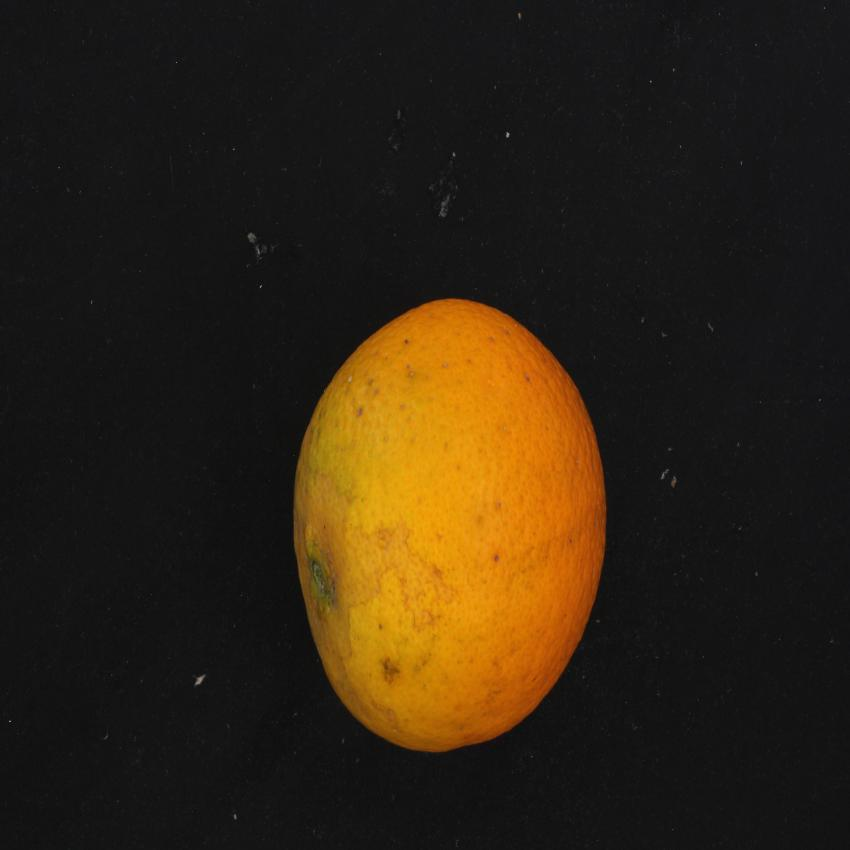Mal estado: (286, 290, 626, 769)
